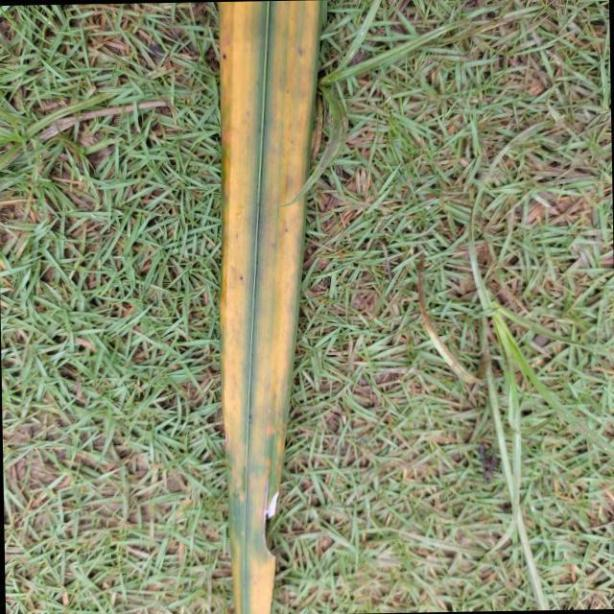Megnesium: (214, 0, 323, 614)
